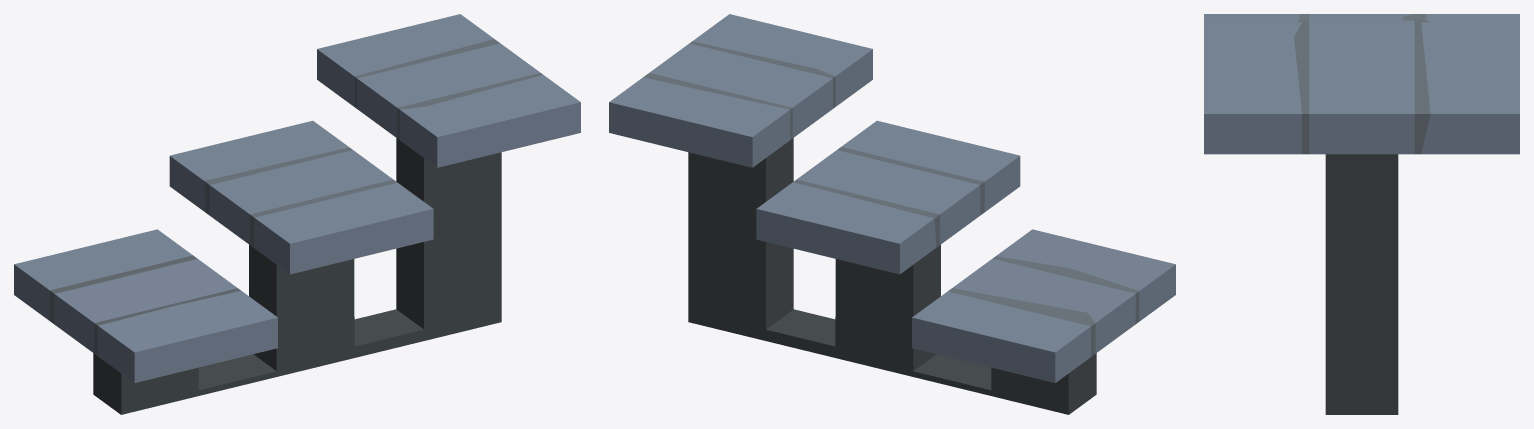
Rendered from Prop_Sidetable_GreyPalette.fbx.
3 views of the same model, side by side, from view 1: azimuth 30°, elevation 25°; view 2: azimuth 150°, elevation 25°; view 3: azimuth 270°, elevation 25° (orthographic). The views are drawn at different scales.
Parts seen in each view (by area): view 1: Cube.103; view 2: Cube.103; view 3: Cube.103.
Part boxes in pixels (box(x1,y1,x2,y2)): Cube.103: box(14, 14, 580, 414); Cube.103: box(609, 14, 1175, 414); Cube.103: box(1204, 14, 1519, 414).
Size of the model in its own units: 123 by 64.7 by 57.5.
